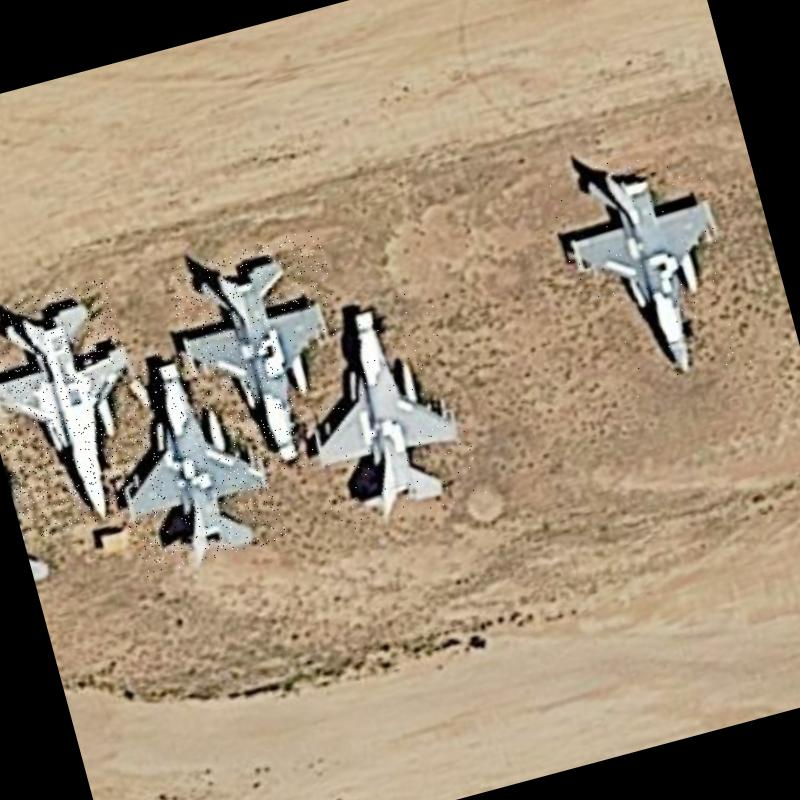A5: (541, 137, 756, 406), (272, 277, 488, 537), (163, 228, 375, 487), (87, 333, 288, 578), (0, 275, 166, 541)
